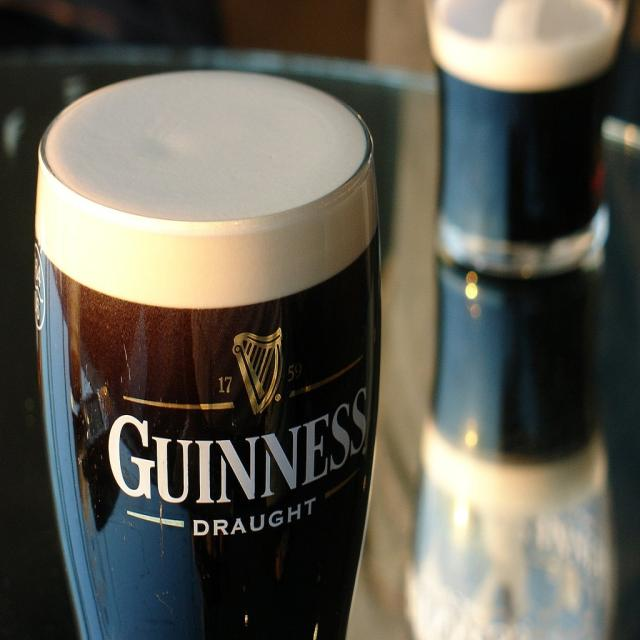guiness: (105, 327, 372, 508)
